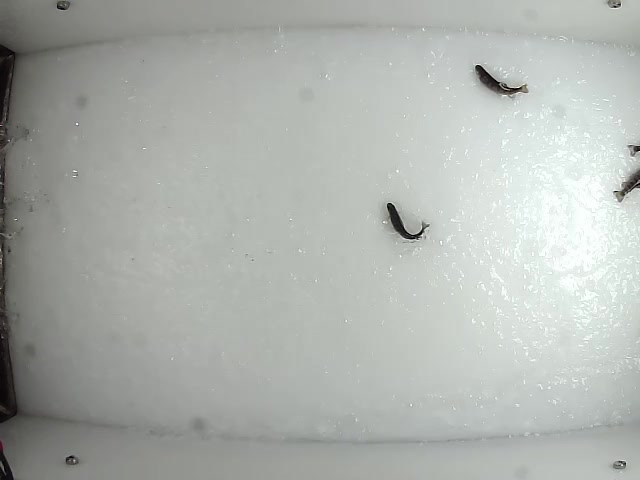fish: (473, 61, 532, 96), (385, 202, 430, 241)
